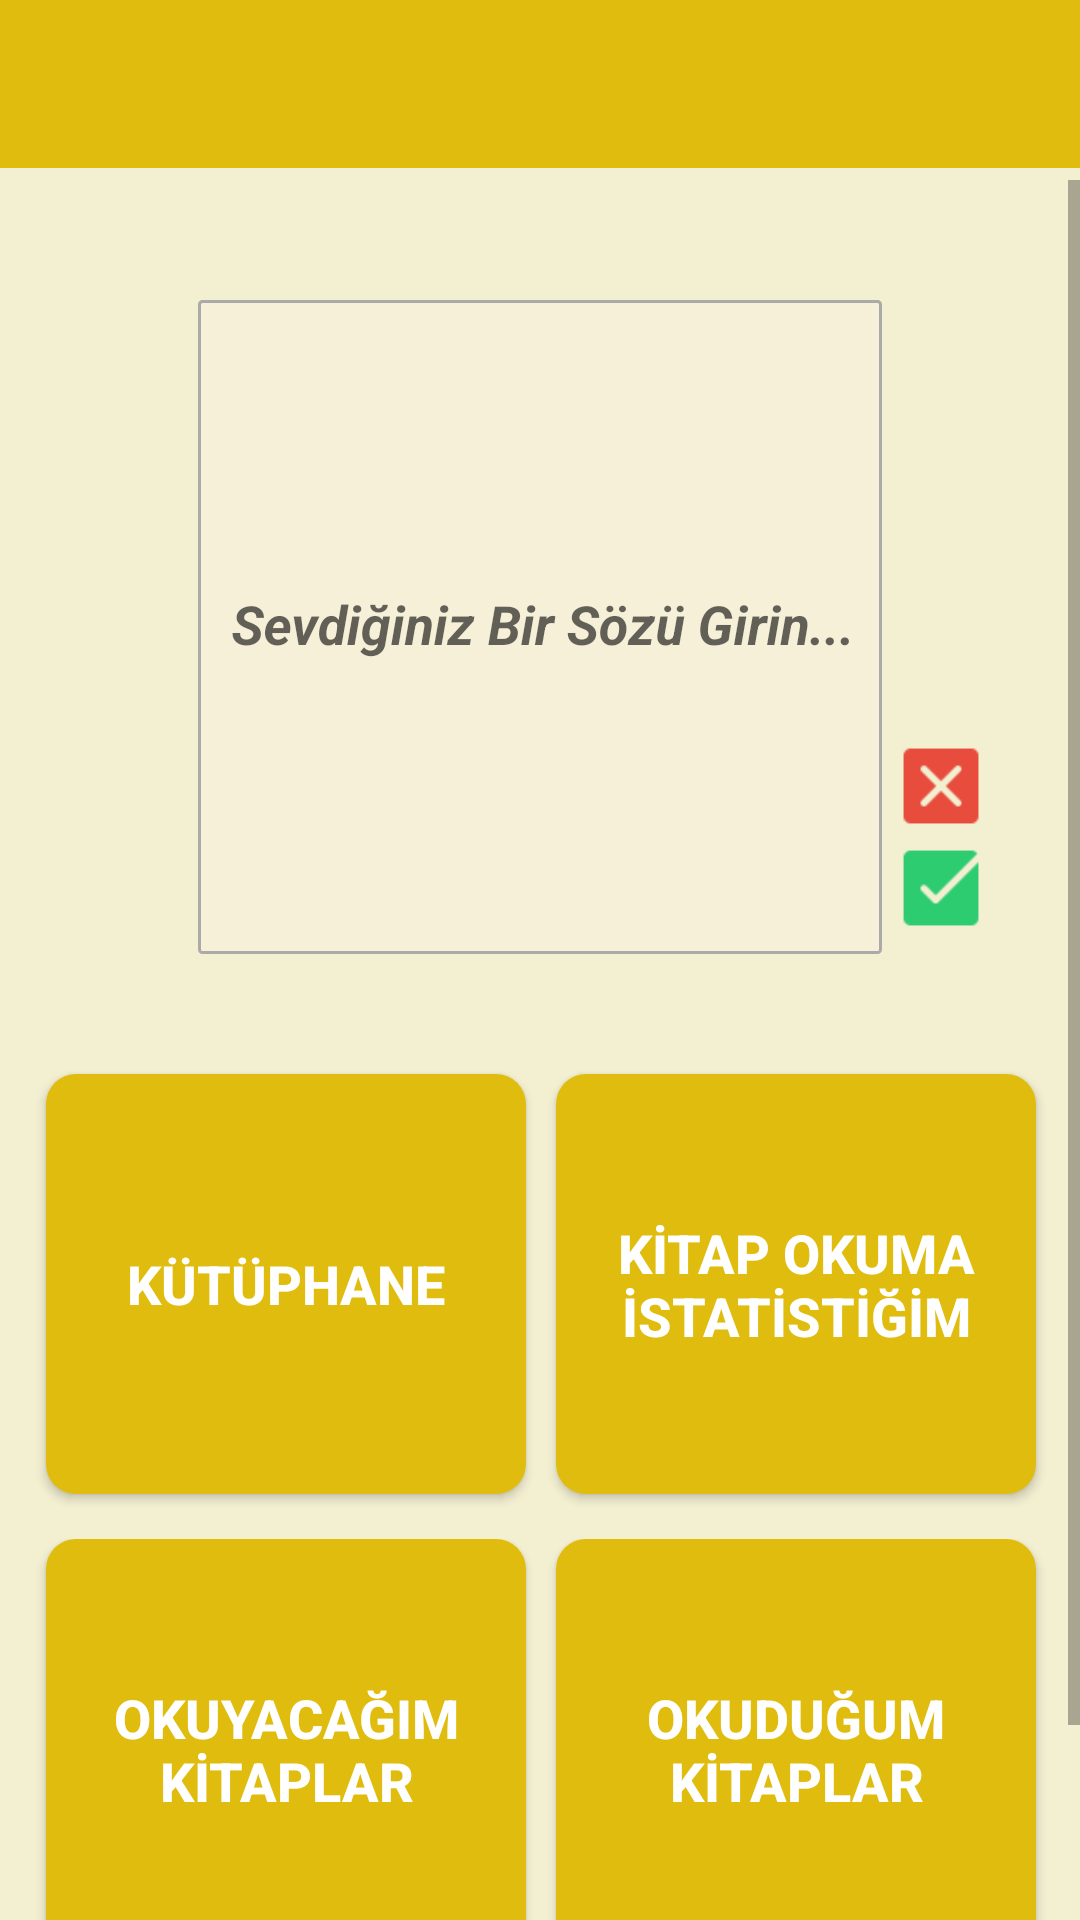

Where to tap for icons on this 1080 × 1920 app screen, as point (x, y):
carpi: point (941, 786)
tik: point (941, 888)
